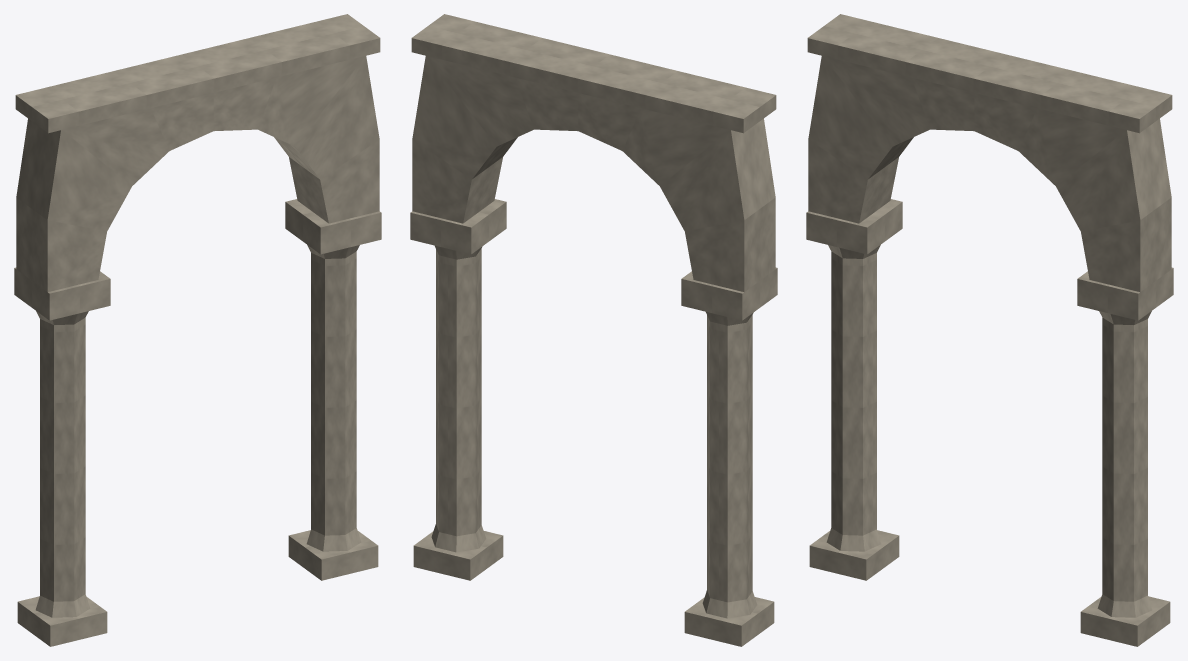
Rendered from Arch_Stone_1_LOD1.gltf.
3 views of the same model, side by side, from view 1: azimuth 30°, elevation 25°; view 2: azimuth 150°, elevation 25°; view 3: azimuth 330°, elevation 25° (orthographic).
Parts seen in each view (by area): view 1: Arch_Stone_1_LOD1; view 2: Arch_Stone_1_LOD1; view 3: Arch_Stone_1_LOD1.
Boxes of the visible parts, <box> form: Arch_Stone_1_LOD1: <box>14,14,381,646</box>; Arch_Stone_1_LOD1: <box>410,14,777,646</box>; Arch_Stone_1_LOD1: <box>806,14,1173,646</box>.
Size of the model in its own units: 4.9 by 7.45 by 0.9.
Materials: 1 (1 with a texture image).
